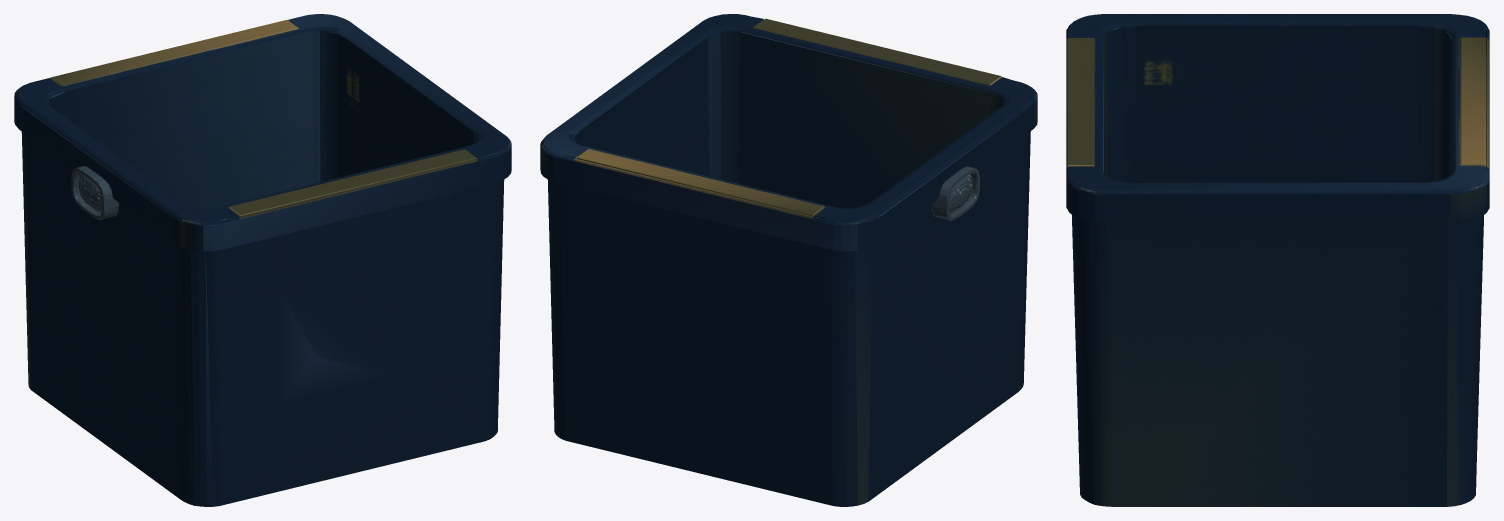
File: return-bin.glb
3 renders of one model, left to right at view 1: azimuth 30°, elevation 25°; view 2: azimuth 150°, elevation 25°; view 3: azimuth 270°, elevation 25°, orthographic. The views are drawn at different scales.
Visible parts, largest first — view 1: tripo_node_9f342f27-dea2-433d-b339-5ca42ebc4c79; view 2: tripo_node_9f342f27-dea2-433d-b339-5ca42ebc4c79; view 3: tripo_node_9f342f27-dea2-433d-b339-5ca42ebc4c79.
Boxes of the visible parts, bbox=[...] form: tripo_node_9f342f27-dea2-433d-b339-5ca42ebc4c79: bbox=[14, 14, 511, 506]; tripo_node_9f342f27-dea2-433d-b339-5ca42ebc4c79: bbox=[540, 14, 1037, 506]; tripo_node_9f342f27-dea2-433d-b339-5ca42ebc4c79: bbox=[1066, 14, 1489, 506].
Bounding box in the file's own units: 0.998 × 0.8145 × 0.9707.
1 material, 1 textured.
